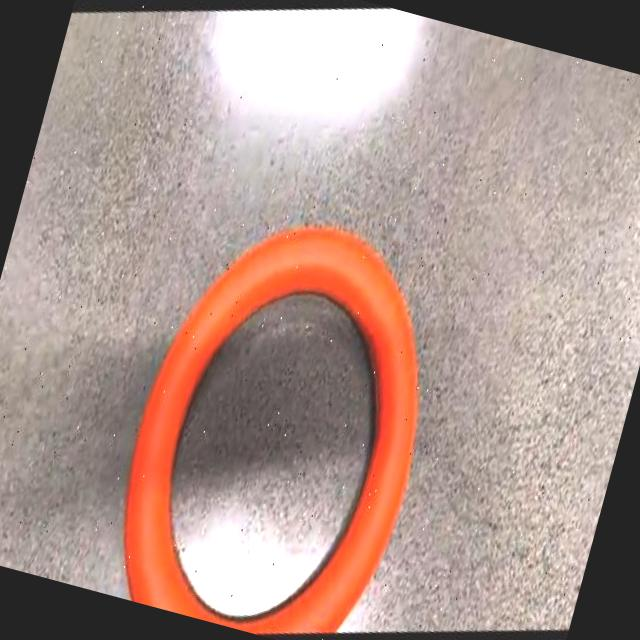note: (124, 227, 417, 630)
